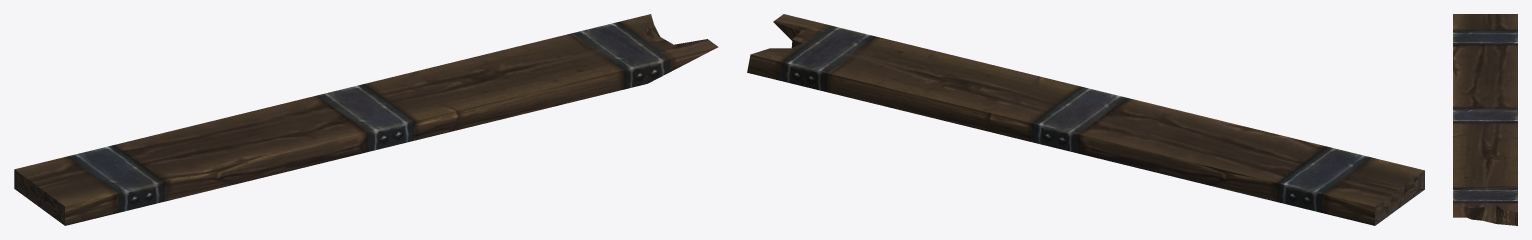
The model's file is A_mutou_posun_004.fbx.
3 views of the same model, side by side, from view 1: azimuth 30°, elevation 25°; view 2: azimuth 150°, elevation 25°; view 3: azimuth 270°, elevation 25° (orthographic). The views are drawn at different scales.
Parts seen in each view (by area): view 1: A_mutou_posun_004; view 2: A_mutou_posun_004; view 3: A_mutou_posun_004.
Part boxes in pixels (box(x1,y1,x2,y2)): A_mutou_posun_004: box(14, 14, 718, 225); A_mutou_posun_004: box(747, 14, 1424, 225); A_mutou_posun_004: box(1453, 14, 1517, 225).
Size of the model in its own units: 198 by 5.63 by 26.67.
